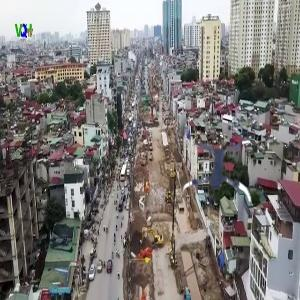drone: (179, 137, 260, 218)
